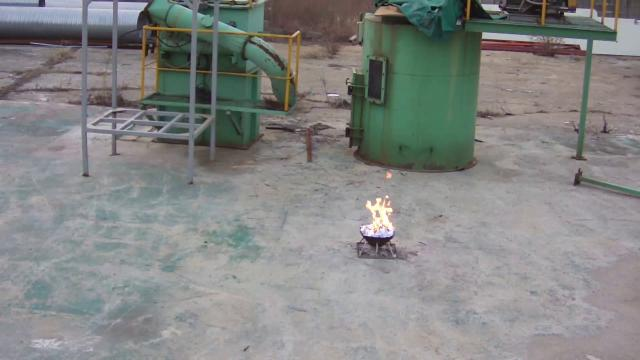fire: (366, 195, 394, 231)
